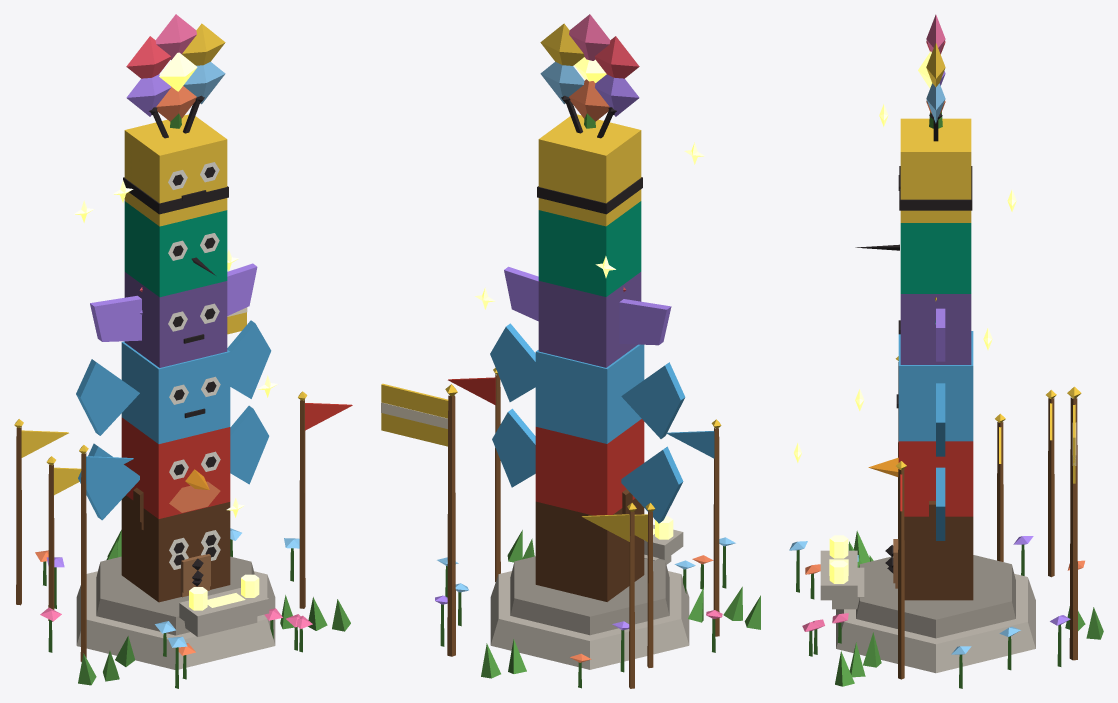
File: meadow-totem.glb
The picture shows the model from 3 angles, left to right: view 1: azimuth 30°, elevation 25°; view 2: azimuth 150°, elevation 25°; view 3: azimuth 270°, elevation 25°; orthographic projection.
Visible parts, largest first — view 1: lv3, lv2, lv1; view 2: lv3, lv2; view 3: lv3, lv2, lv1.
Boxes of the visible parts, <box> form: lv3: <box>14,14,352,688</box>; lv2: <box>46,287,327,681</box>; lv1: <box>115,513,294,666</box>; lv3: <box>381,14,760,688</box>; lv2: <box>455,287,742,673</box>; lv3: <box>789,14,1103,688</box>; lv2: <box>805,297,1085,677</box>; lv1: <box>832,531,935,667</box>.
Size of the model in its own units: 1.48 by 2.93 by 1.36.
